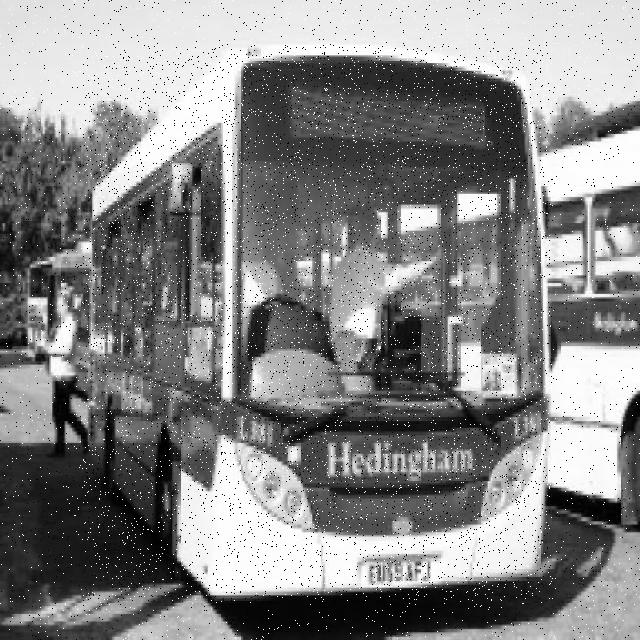Bus: (83, 45, 550, 601)
